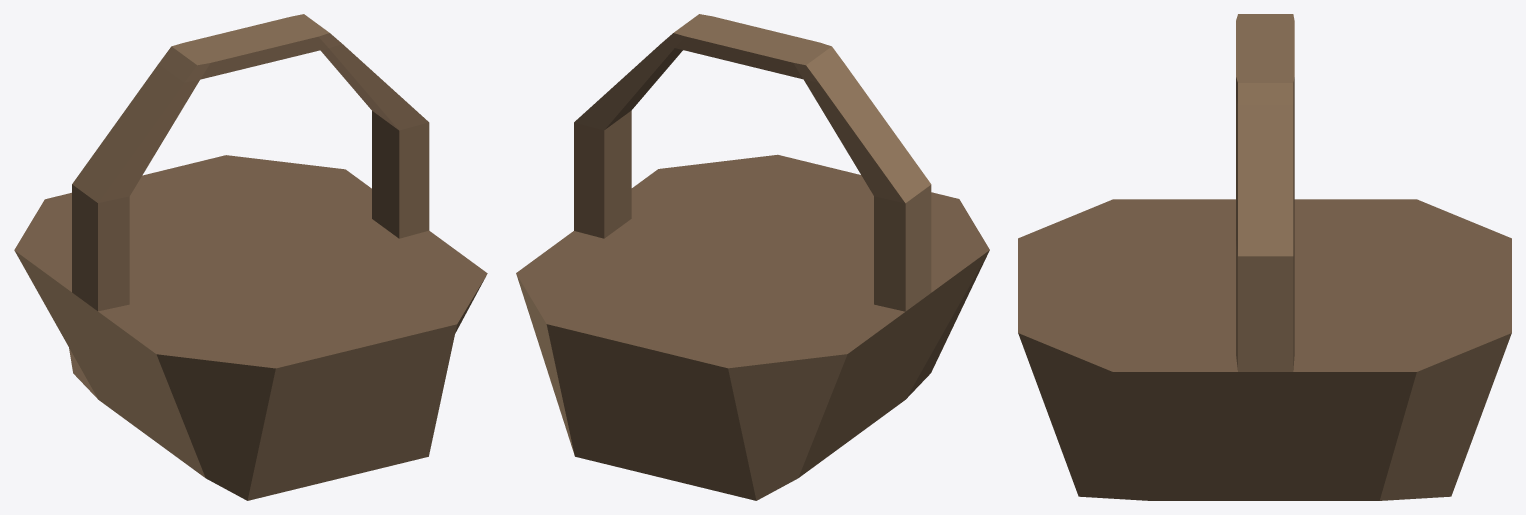
Rendered from mand.fbx.
The picture shows the model from 3 angles, left to right: view 1: azimuth 30°, elevation 25°; view 2: azimuth 150°, elevation 25°; view 3: azimuth 270°, elevation 25°; orthographic projection. The views are drawn at different scales.
Visible parts, largest first — view 1: mand; view 2: mand; view 3: mand.
Part boxes in pixels (x1,y1,x2,y2): mand: (14, 14, 487, 500); mand: (516, 14, 989, 500); mand: (1018, 14, 1511, 500).
Size of the model in its own units: 2.26 by 2.45 by 2.73.
